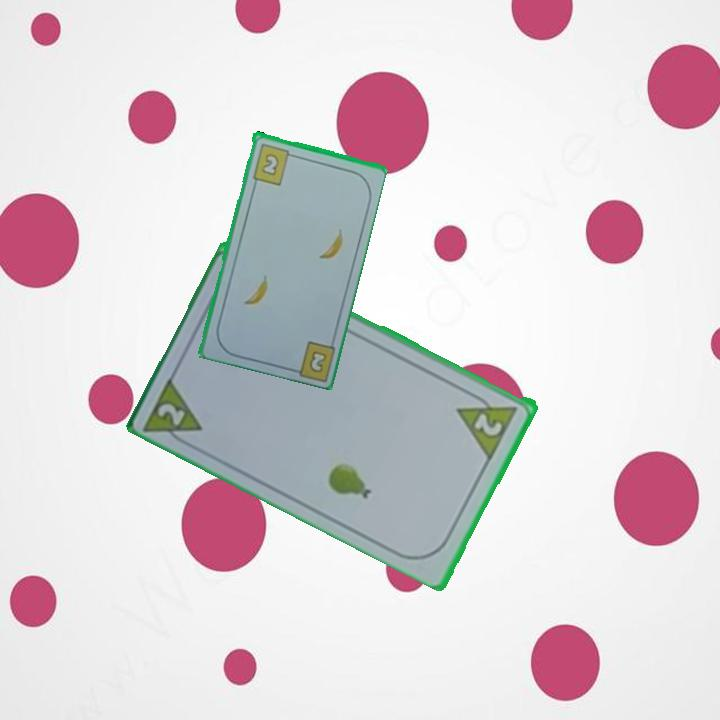2b: (249, 140, 297, 187), (305, 347, 329, 375)
2p: (454, 386, 521, 461), (154, 399, 189, 429)
